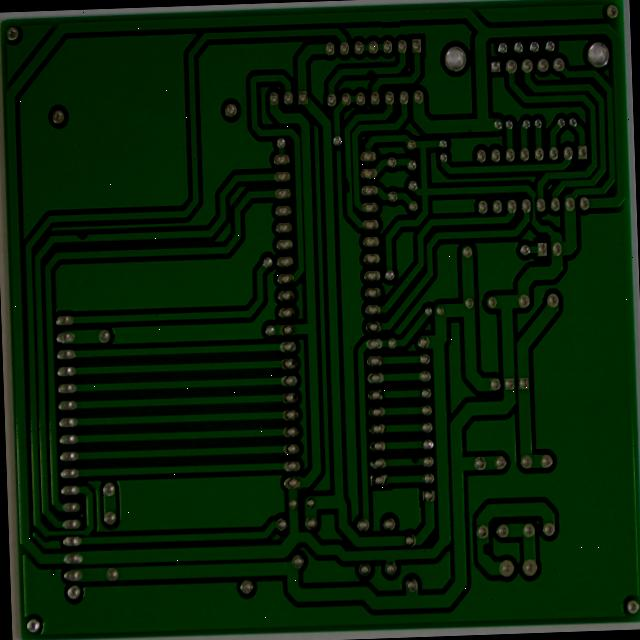mouse_bite: (73, 193, 95, 215), (503, 530, 520, 552), (379, 17, 399, 33), (359, 135, 371, 160), (429, 438, 444, 451)
